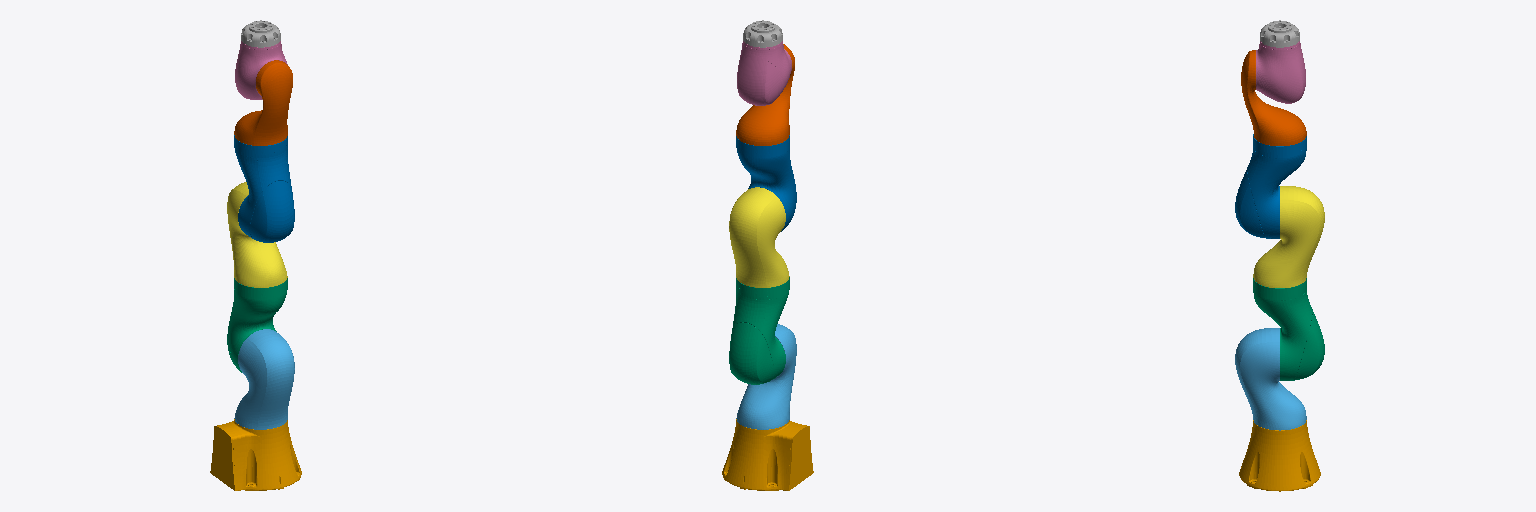
The robot description file, URDF, robot "iiwa7":
<?xml version="1.0" encoding="utf-8"?>
<robot name="iiwa7">
  <link name="link_0">
    <inertial>
      <origin rpy="0 0 0" xyz="-0.012857 0.0 0.069964"/>
      <mass value="4.855658"/>
      <inertia ixx="0.017839" ixy="0.0" ixz="0.000781" iyy="0.022294" iyz="0.0" izz="0.021334"/>
    </inertial>
    <visual>
      <origin rpy="0 0 0" xyz="0 0 0"/>
      <geometry>
        <mesh filename="meshes/visual/link_0.obj"/>
      </geometry>
    </visual>
    <collision>
      <origin rpy="0 0 0" xyz="0 0 0"/>
      <geometry>
        <mesh filename="meshes/collision/link_0.obj"/>
      </geometry>
    </collision>
  </link>
  <joint name="A1" type="revolute">
    <origin rpy="0 0 0" xyz="0.0 0.0 0.1475"/>
    <parent link="link_0"/>
    <child link="link_1"/>
    <axis xyz="0.0 0.0 1.0"/>
    <limit effort="200" lower="-2.96705972839" upper="2.96705972839" velocity="1.71042266695"/>
    <dynamics damping="10.0" friction="0.1"/>
  </joint>
  <link name="link_1">
    <inertial>
      <origin rpy="0 0 0" xyz="0.0 -0.034819 0.123299"/>
      <mass value="3.394011"/>
      <inertia ixx="0.021383" ixy="0.0" ixz="0.0" iyy="0.020403" iyz="0.003797" izz="0.007563"/>
    </inertial>
    <visual>
      <origin rpy="0 0 0" xyz="0.0 0.0 -0.1475"/>
      <geometry>
        <mesh filename="meshes/visual/link_1.obj"/>
      </geometry>
    </visual>
    <collision>
      <origin rpy="0 0 0" xyz="0.0 0.0 -0.1475"/>
      <geometry>
        <mesh filename="meshes/collision/link_1.obj"/>
      </geometry>
    </collision>
  </link>
  <joint name="A2" type="revolute">
    <origin rpy="0 0 0" xyz="0.0 -0.0105 0.1925"/>
    <parent link="link_1"/>
    <child link="link_2"/>
    <axis xyz="0.0 1.0 0.0"/>
    <limit effort="200" lower="-2.09439510239" upper="2.09439510239" velocity="1.71042266695"/>
    <dynamics damping="10.0" friction="0.1"/>
  </joint>
  <link name="link_2">
    <inertial>
      <origin rpy="0 0 0" xyz="0.0 0.039793 0.086944"/>
      <mass value="4.031991"/>
      <inertia ixx="0.031697" ixy="0.0" ixz="0.0" iyy="0.03008" iyz="0.005889" izz="0.009666"/>
    </inertial>
    <visual>
      <origin rpy="0 0 0" xyz="0.0 0.0105 -0.34"/>
      <geometry>
        <mesh filename="meshes/visual/link_2.obj"/>
      </geometry>
    </visual>
    <collision>
      <origin rpy="0 0 0" xyz="0.0 0.0105 -0.34"/>
      <geometry>
        <mesh filename="meshes/collision/link_2.obj"/>
      </geometry>
    </collision>
  </link>
  <joint name="A3" type="revolute">
    <origin rpy="0 0 0" xyz="0.0 0.0105 0.2075"/>
    <parent link="link_2"/>
    <child link="link_3"/>
    <axis xyz="0.0 0.0 1.0"/>
    <limit effort="200" lower="-2.96705972839" upper="2.96705972839" velocity="1.74532925199"/>
    <dynamics damping="10.0" friction="0.1"/>
  </joint>
  <link name="link_3">
    <inertial>
      <origin rpy="0 0 0" xyz="0.0 0.034819 0.123299"/>
      <mass value="3.394011"/>
      <inertia ixx="0.021383" ixy="0.0" ixz="0.0" iyy="0.020403" iyz="-0.003797" izz="0.007563"/>
    </inertial>
    <visual>
      <origin rpy="0 0 0" xyz="0.0 0.0 -0.5475"/>
      <geometry>
        <mesh filename="meshes/visual/link_3.obj"/>
      </geometry>
    </visual>
    <collision>
      <origin rpy="0 0 0" xyz="0.0 0.0 -0.5475"/>
      <geometry>
        <mesh filename="meshes/collision/link_3.obj"/>
      </geometry>
    </collision>
  </link>
  <joint name="A4" type="revolute">
    <origin rpy="0 0 0" xyz="0.0 0.0105 0.1925"/>
    <parent link="link_3"/>
    <child link="link_4"/>
    <axis xyz="0.0 -1.0 0.0"/>
    <limit effort="200" lower="-2.09439510239" upper="2.09439510239" velocity="2.26892802759"/>
    <dynamics damping="10.0" friction="0.1"/>
  </joint>
  <link name="link_4">
    <inertial>
      <origin rpy="0 0 0" xyz="0.0 -0.039793 0.086944"/>
      <mass value="4.031989"/>
      <inertia ixx="0.031695" ixy="0.0" ixz="0.0" iyy="0.030079" iyz="-0.005889" izz="0.009665"/>
    </inertial>
    <visual>
      <origin rpy="0 0 0" xyz="0.0 -0.0105 -0.74"/>
      <geometry>
        <mesh filename="meshes/visual/link_4.obj"/>
      </geometry>
    </visual>
    <collision>
      <origin rpy="0 0 0" xyz="0.0 -0.0105 -0.74"/>
      <geometry>
        <mesh filename="meshes/collision/link_4.obj"/>
      </geometry>
    </collision>
  </link>
  <joint name="A5" type="revolute">
    <origin rpy="0 0 0" xyz="0.0 -0.0105 0.2075"/>
    <parent link="link_4"/>
    <child link="link_5"/>
    <axis xyz="0.0 0.0 1.0"/>
    <limit effort="200" lower="-2.96705972839" upper="2.96705972839" velocity="2.44346095279"/>
    <dynamics damping="10.0" friction="0.1"/>
  </joint>
  <link name="link_5">
    <inertial>
      <origin rpy="0 0 0" xyz="0.0 -0.029824 0.076267"/>
      <mass value="1.529239"/>
      <inertia ixx="0.008485" ixy="0.0" ixz="0.0" iyy="0.007136" iyz="0.002806" izz="0.003848"/>
    </inertial>
    <visual>
      <origin rpy="0 0 0" xyz="0.0 0.0 -0.9475"/>
      <geometry>
        <mesh filename="meshes/visual/link_5.obj"/>
      </geometry>
    </visual>
    <collision>
      <origin rpy="0 0 0" xyz="0.0 0.0 -0.9475"/>
      <geometry>
        <mesh filename="meshes/collision/link_5.obj"/>
      </geometry>
    </collision>
  </link>
  <joint name="A6" type="revolute">
    <origin rpy="0 0 0" xyz="0.0 -0.0707 0.1925"/>
    <parent link="link_5"/>
    <child link="link_6"/>
    <axis xyz="0.0 1.0 0.0"/>
    <limit effort="200" lower="-2.09439510239" upper="2.09439510239" velocity="3.14159265359"/>
    <dynamics damping="10.0" friction="0.1"/>
  </joint>
  <link name="link_6">
    <inertial>
      <origin rpy="0 0 0" xyz="0.0 0.07102 0.00495"/>
      <mass value="2.403626"/>
      <inertia ixx="0.007067" ixy="0.0" ixz="0.0" iyy="0.006804" iyz="0.000311" izz="0.004629"/>
    </inertial>
    <visual>
      <origin rpy="0 0 0" xyz="0.0 0.0707 -1.14"/>
      <geometry>
        <mesh filename="meshes/visual/link_6.obj"/>
      </geometry>
    </visual>
    <collision>
      <origin rpy="0 0 0" xyz="0.0 0.0707 -1.14"/>
      <geometry>
        <mesh filename="meshes/collision/link_6.obj"/>
      </geometry>
    </collision>
  </link>
  <joint name="A7" type="revolute">
    <origin rpy="0 0 0" xyz="0.0 0.0707 0.091"/>
    <parent link="link_6"/>
    <child link="link_7"/>
    <axis xyz="0.0 0.0 1.0"/>
    <limit effort="200" lower="-3.05432619099" upper="3.05432619099" velocity="3.14159265359"/>
    <dynamics damping="10.0" friction="0.1"/>
  </joint>
  <link name="link_7">
    <inertial>
      <origin rpy="0 0 0" xyz="3.0000e-06 -2.0000e-06 1.3782e-02"/>
      <mass value="0.259474"/>
      <inertia ixx="0.000171" ixy="0.0" ixz="0.0" iyy="0.000171" iyz="0.0" izz="0.000299"/>
    </inertial>
    <visual>
      <origin rpy="0 0 0" xyz="0.0 0.0 -1.231"/>
      <geometry>
        <mesh filename="meshes/visual/link_7.obj"/>
      </geometry>
    </visual>
    <collision>
      <origin rpy="0 0 0" xyz="0.0 0.0 -1.231"/>
      <geometry>
        <mesh filename="meshes/collision/link_7.obj"/>
      </geometry>
    </collision>
  </link>
  <joint name="joint_ee" type="fixed">
    <parent link="link_7"/>
    <child link="ee_link"/>
    <origin rpy="0 -1.57079 0" xyz="0 0 0.035"/>
  </joint>
  <link name="ee_link"/>
</robot>

--- What the picture shows (computed from the rendered views, not written in the file) ---
Views: 3 orthographic renders of the robot side by side, from view 1: azimuth 30°, elevation 25°; view 2: azimuth 150°, elevation 25°; view 3: azimuth 270°, elevation 25°.
Robot: iiwa7 — 9 links, 8 joints (7 revolute, 1 fixed); root link link_0; default pose: all joints at 0.
Links seen in each view (by area): view 1: link_0, link_4, link_1, link_5, link_3, link_2, link_6, link_7; view 2: link_0, link_2, link_3, link_1, link_6, link_4, link_5, link_7; view 3: link_1, link_3, link_0, link_4, link_2, link_5, link_6, link_7.
Link boxes in pixels (<box>): link_0: <box>210,419,301,490</box>; link_4: <box>234,135,294,242</box>; link_1: <box>234,329,294,429</box>; link_5: <box>234,60,292,145</box>; link_3: <box>227,182,287,287</box>; link_2: <box>227,278,287,372</box>; link_6: <box>235,41,287,99</box>; link_7: <box>241,20,280,47</box>; link_0: <box>722,419,813,490</box>; link_2: <box>729,277,789,384</box>; link_3: <box>729,187,789,287</box>; link_1: <box>736,324,796,429</box>; link_6: <box>737,41,791,105</box>; link_4: <box>736,135,796,231</box>; link_5: <box>736,44,794,145</box>; link_7: <box>743,20,782,47</box>; link_1: <box>1235,328,1306,430</box>; link_3: <box>1253,186,1324,287</box>; link_0: <box>1239,420,1320,491</box>; link_4: <box>1235,134,1306,238</box>; link_2: <box>1253,278,1324,380</box>; link_5: <box>1241,50,1306,145</box>; link_6: <box>1256,41,1305,103</box>; link_7: <box>1260,20,1299,47</box>.
Size in the robot's own frame: 0.217 by 0.2292 by 1.27 metres.
Meshes: 8 distinct files referenced, 8 mesh visuals loaded (8 OBJ).